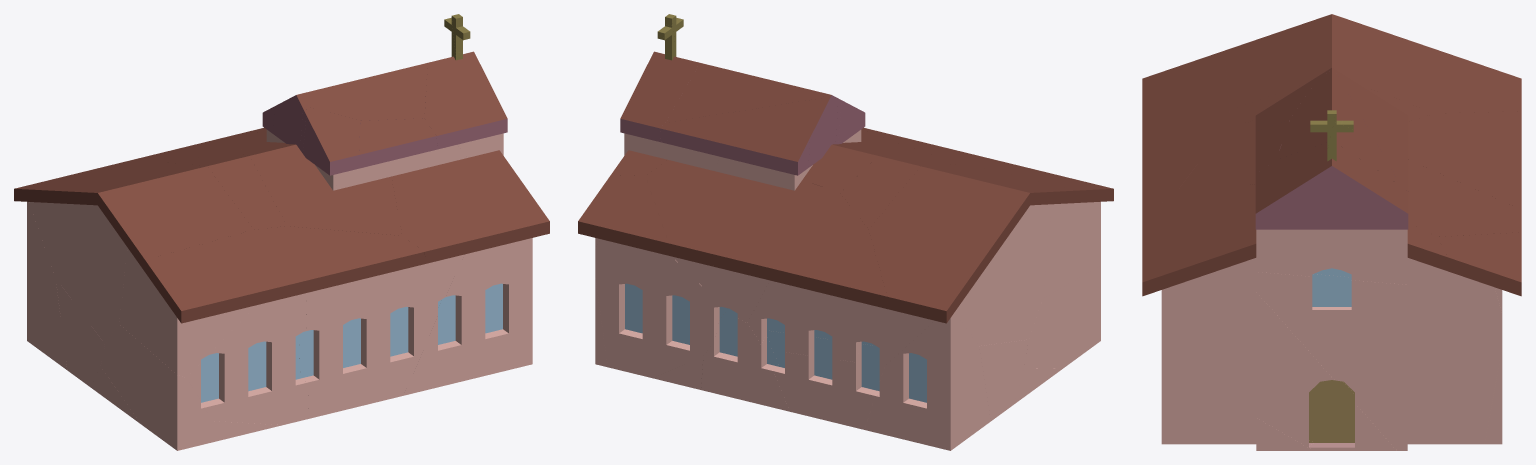
Rendered from Iglesia.fbx.
3 views of the same model, side by side, from view 1: azimuth 30°, elevation 25°; view 2: azimuth 150°, elevation 25°; view 3: azimuth 270°, elevation 25° (orthographic). The views are drawn at different scales.
Parts seen in each view (by area): view 1: Cube.011_cell, Cube.014_cell.008, Cube.014_cell, Cube.011_cell.008, Cube.014_cell.006, Cube.011_cell.005, Cube.011_cell.007, Cube.014_cell.009, Cube.011_cell.013, Cube.011_cell.004, Cube.012_cell.006, Cube.012_cell.003 (+10 smaller); view 2: Cube.014_cell, Cube.014_cell.001, Cube.011_cell.009, Cube.011_cell.006, Cube.011_cell.011, Cube.011_cell.014, Cube.014_cell.007, Cube.011_cell.007, Cube.012_cell.002, Cube.011_cell.012, Cube.011_cell.013, Cube.014_cell.002 (+15 smaller); view 3: Cube.014_cell, Cube.011_cell.008, Cube.011_cell.009, Cube.013_cell.006, Cube.012_cell.006, Cube.013_cell.004, Cube.014_cell.008, Cube.014_cell.006, Cube.014_cell.001, Cube.013_cell.008, Cube.014_cell.007, Cube.012_cell.003 (+11 smaller).
Boxes of the visible parts, x1=… form: Cube.011_cell: x1=299, y1=254, x2=463, y2=418; Cube.014_cell.008: x1=142, y1=226, x2=426, y2=323; Cube.014_cell: x1=14, y1=162, x2=253, y2=267; Cube.011_cell.008: x1=403, y1=238, x2=532, y2=395; Cube.014_cell.006: x1=391, y1=150, x2=549, y2=263; Cube.011_cell.005: x1=187, y1=293, x2=308, y2=424; Cube.011_cell.007: x1=29, y1=202, x2=127, y2=343; Cube.014_cell.009: x1=232, y1=142, x2=401, y2=235; Cube.011_cell.013: x1=100, y1=324, x2=212, y2=450; Cube.011_cell.004: x1=119, y1=248, x2=255, y2=377; Cube.012_cell.006: x1=424, y1=51, x2=507, y2=149; Cube.012_cell.003: x1=301, y1=63, x2=427, y2=120; Cube.014_cell: x1=868, y1=163, x2=1077, y2=323; Cube.014_cell.001: x1=709, y1=180, x2=887, y2=308; Cube.011_cell.009: x1=595, y1=239, x2=727, y2=378; Cube.011_cell.006: x1=864, y1=312, x2=990, y2=450; Cube.011_cell.011: x1=764, y1=330, x2=1028, y2=429; Cube.011_cell.014: x1=747, y1=280, x2=934, y2=366; Cube.014_cell.007: x1=645, y1=160, x2=780, y2=266; Cube.011_cell.007: x1=955, y1=204, x2=1051, y2=345; Cube.012_cell.002: x1=660, y1=98, x2=821, y2=175; Cube.011_cell.012: x1=701, y1=308, x2=790, y2=411; Cube.011_cell.013: x1=1024, y1=265, x2=1100, y2=368; Cube.014_cell.002: x1=578, y1=175, x2=675, y2=257; Cube.014_cell: x1=1224, y1=14, x2=1521, y2=113; Cube.011_cell.008: x1=1161, y1=258, x2=1256, y2=444; Cube.011_cell.009: x1=1407, y1=258, x2=1502, y2=444; Cube.013_cell.006: x1=1256, y1=272, x2=1407, y2=450; Cube.012_cell.006: x1=1255, y1=142, x2=1408, y2=229; Cube.013_cell.004: x1=1256, y1=292, x2=1396, y2=450; Cube.014_cell.008: x1=1142, y1=51, x2=1229, y2=212; Cube.014_cell.006: x1=1142, y1=184, x2=1256, y2=296; Cube.014_cell.001: x1=1408, y1=111, x2=1521, y2=209; Cube.013_cell.008: x1=1256, y1=229, x2=1407, y2=284; Cube.014_cell.007: x1=1408, y1=160, x2=1521, y2=236; Cube.012_cell.003: x1=1276, y1=70, x2=1400, y2=185.
Bounding box in the file's own units: 3178 × 2364 × 2447.
